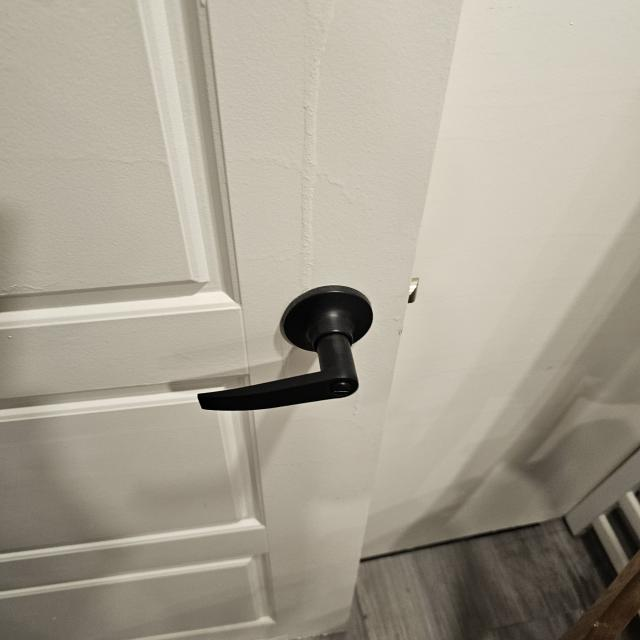door-handle: (198, 285, 372, 411)
